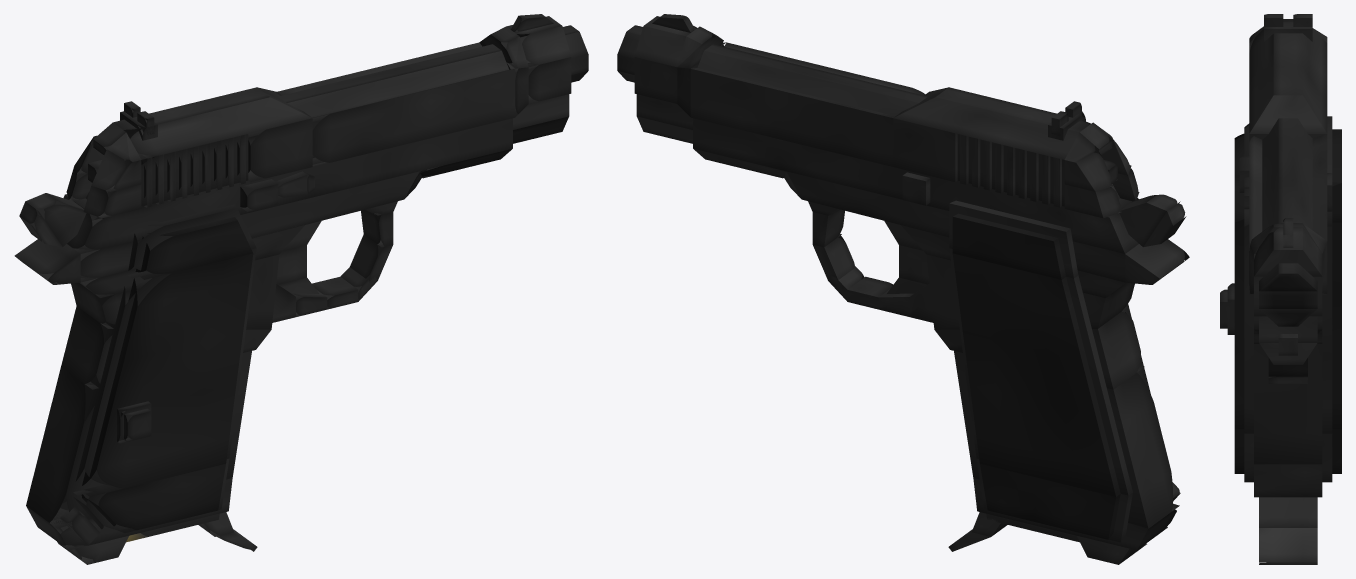
3 renders of one model, left to right at view 1: azimuth 30°, elevation 25°; view 2: azimuth 150°, elevation 25°; view 3: azimuth 270°, elevation 25°, orthographic. The views are drawn at different scales.
Visible parts, largest first — view 1: gunModel18, gunModel3, slideModel21, gunModel11, gunModel1, slideModel13, gunModel4, gunModel20, gunModel15, gunModel19, gunModel10, slideModel0 (+26 smaller); view 2: gunModel18, gunModel3, slideModel22, gunModel11, slideModel13, gunModel1, gunModel20, gunModel4, gunModel19, gunModel15, slideModel0, gunModel10 (+24 smaller); view 3: slideModel13, gunModel11, gunModel1, gunModel18, gunModel15, gunModel12, slideModel19, ammoModel3, ammoModel2, gunModel19, slideModel22, slideModel21 (+21 smaller).
Part boxes in pixels (bbox=[...]): gunModel18: bbox=[82, 253, 253, 496]; gunModel3: bbox=[63, 118, 512, 253]; slideModel21: bbox=[312, 69, 515, 166]; gunModel11: bbox=[26, 351, 251, 528]; gunModel1: bbox=[248, 25, 588, 137]; slideModel13: bbox=[113, 87, 312, 159]; gunModel4: bbox=[74, 171, 419, 282]; gunModel20: bbox=[81, 464, 225, 533]; gunModel15: bbox=[73, 248, 256, 495]; gunModel19: bbox=[135, 217, 252, 279]; gunModel10: bbox=[71, 254, 279, 329]; slideModel0: bbox=[248, 118, 312, 182]; gunModel18: bbox=[952, 253, 1120, 496]; gunModel3: bbox=[693, 118, 1138, 253]; slideModel22: bbox=[690, 68, 895, 166]; gunModel11: bbox=[954, 351, 1179, 528]; slideModel13: bbox=[893, 87, 1090, 159]; gunModel1: bbox=[617, 25, 927, 116]; gunModel20: bbox=[980, 464, 1120, 539]; gunModel4: bbox=[786, 171, 1125, 282]; gunModel19: bbox=[952, 213, 1065, 279]; gunModel15: bbox=[949, 248, 1150, 495]; slideModel0: bbox=[893, 118, 957, 182]; gunModel10: bbox=[926, 254, 1134, 329]; slideModel13: bbox=[1249, 19, 1327, 133]; gunModel11: bbox=[1254, 344, 1322, 464]; gunModel1: bbox=[1259, 118, 1317, 291]; gunModel18: bbox=[1234, 222, 1341, 429]; gunModel15: bbox=[1244, 226, 1332, 433]; gunModel12: bbox=[1254, 464, 1322, 497]; slideModel19: bbox=[1254, 227, 1322, 276]; ammoModel3: bbox=[1259, 528, 1317, 564]; ammoModel2: bbox=[1259, 497, 1317, 527]; gunModel19: bbox=[1234, 129, 1341, 222]; slideModel22: bbox=[1312, 134, 1327, 240]; slideModel21: bbox=[1249, 136, 1262, 294].
Size of the model in its own units: 7.05 by 5.6 by 1.25.
